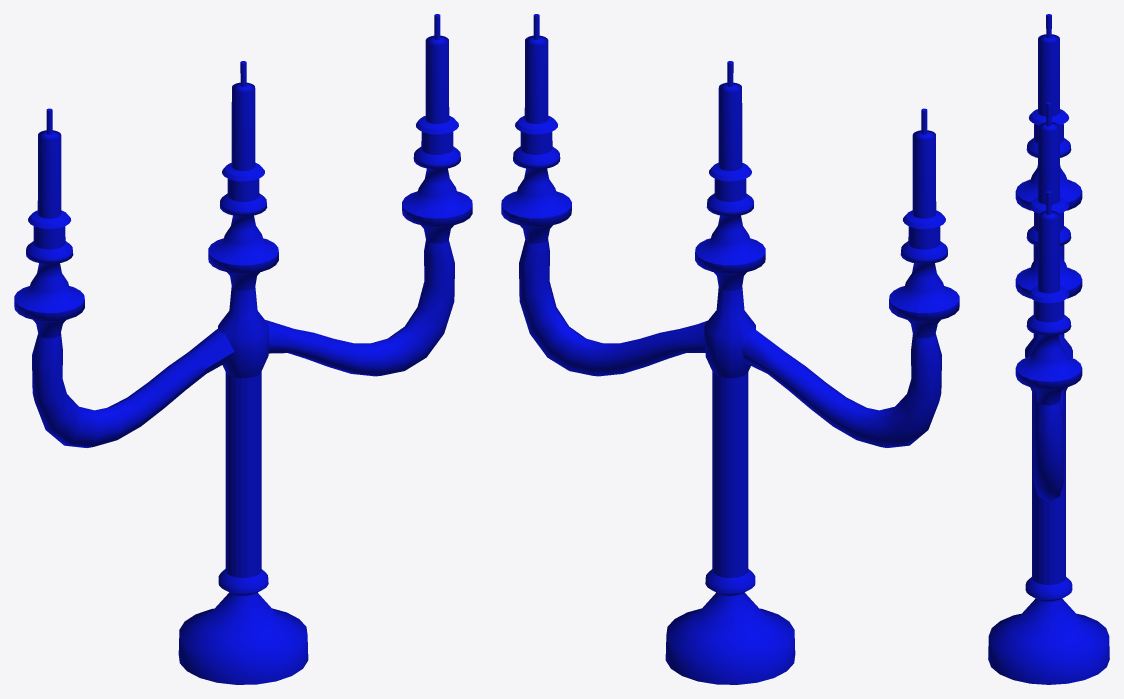
File: Castle_CandleStick_A.fbx
3 renders of one model, left to right at view 1: azimuth 30°, elevation 25°; view 2: azimuth 150°, elevation 25°; view 3: azimuth 270°, elevation 25°, orthographic. The views are drawn at different scales.
Visible parts, largest first — view 1: arm4; view 2: arm4; view 3: arm4.
Part boxes in pixels (x1,y1,x2,y2): arm4: (14,14,472,684); arm4: (501,14,959,684); arm4: (988,14,1109,684).
Size of the model in its own units: 22.89 by 29.02 by 5.75.
